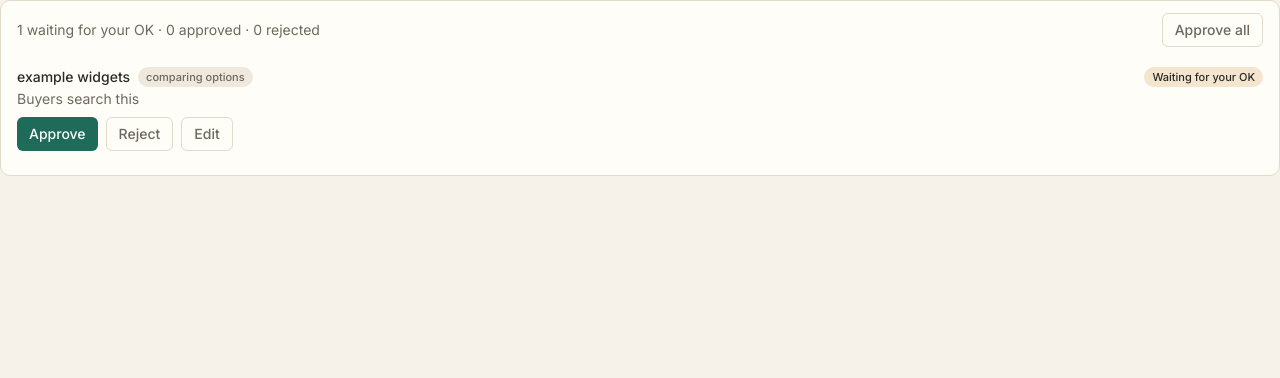
Scenario: ProposalList › Cancel restores the original draft
The image size is (1280, 378).
Step 1. Click the button named "Edit keyword \"example widgets\"" → (207, 134), box x1=181 y1=117 x2=233 y2=151
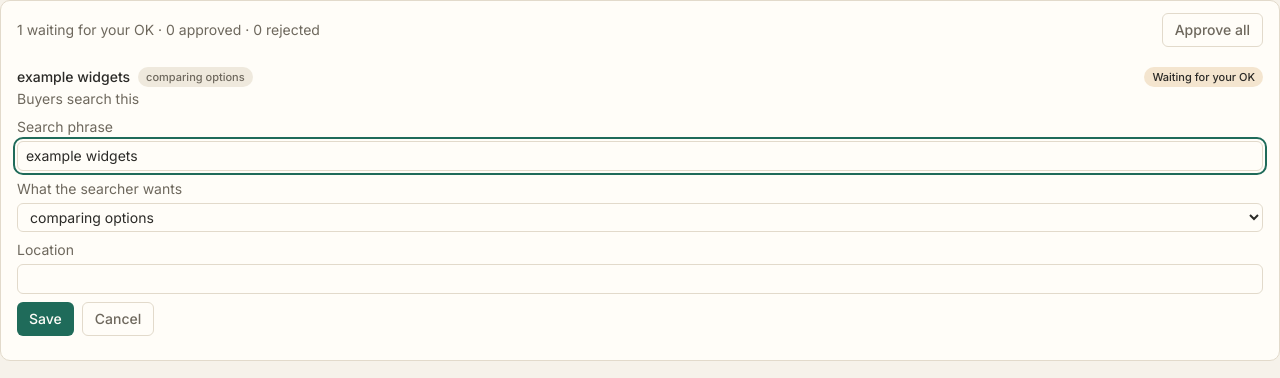
Step 2. Replace the text in the field labelled "Search phrase" with "changed" → (640, 156), box x1=17 y1=141 x2=1263 y2=171
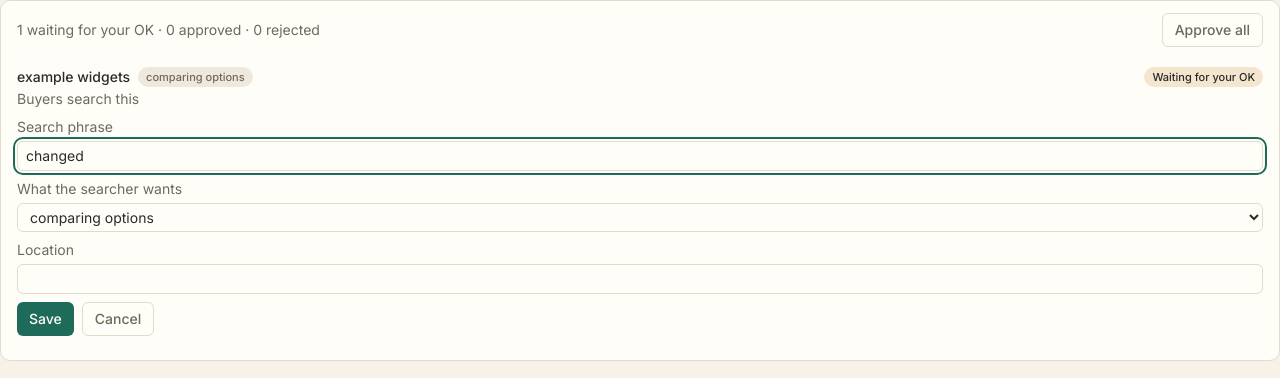
Step 3. Click the button named "Cancel editing keyword \"example widgets\"" → (118, 319), box x1=82 y1=302 x2=154 y2=336
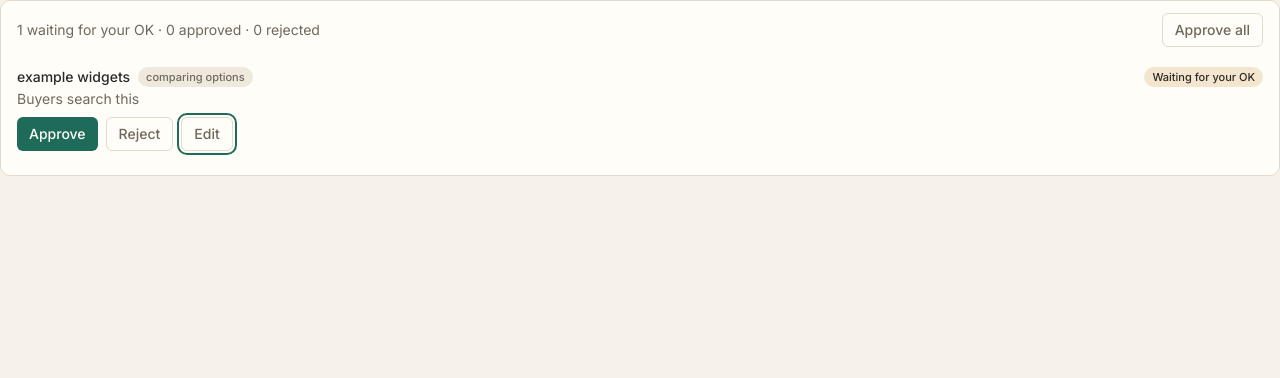
Step 4. Click the button named "Edit keyword \"example widgets\"" → (207, 134), box x1=181 y1=117 x2=233 y2=151
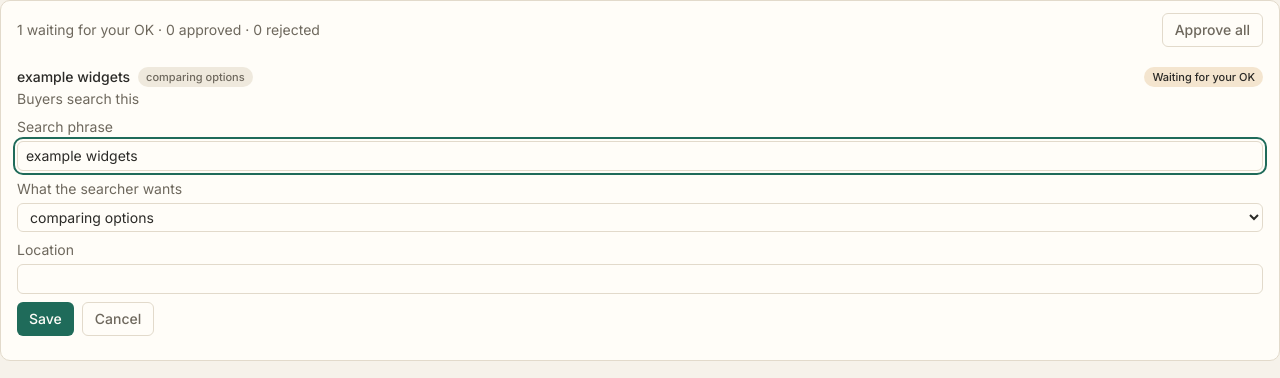
Now the field labelled "Search phrase" holds "example widgets", box x1=17 y1=141 x2=1263 y2=171
